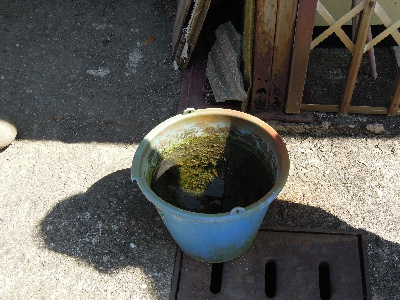bucket: (129, 105, 292, 264)
